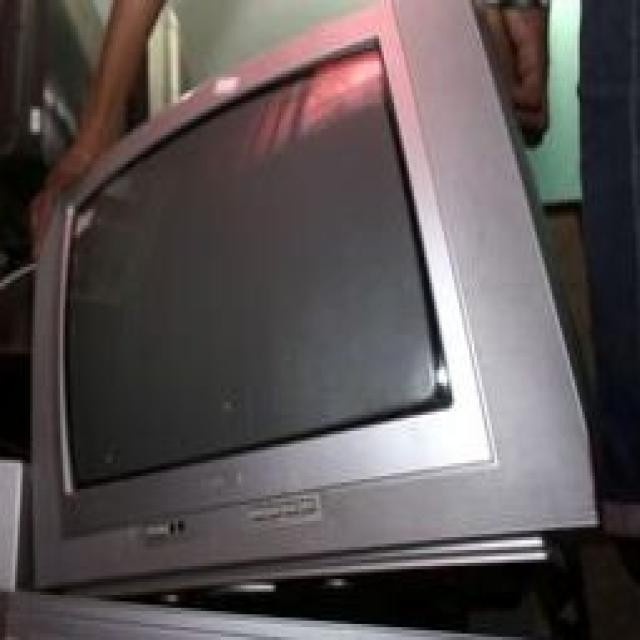electronic: (25, 0, 599, 614)
